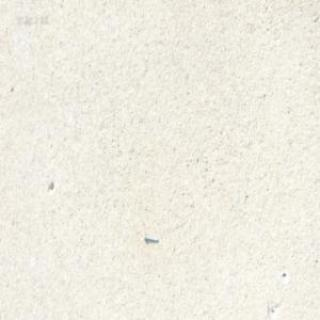Nailtrack_idkeyframe: (142, 232, 158, 242)
